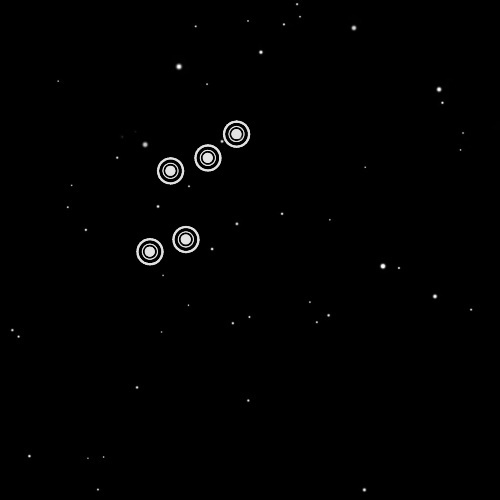lyra: (129, 106, 253, 285)
